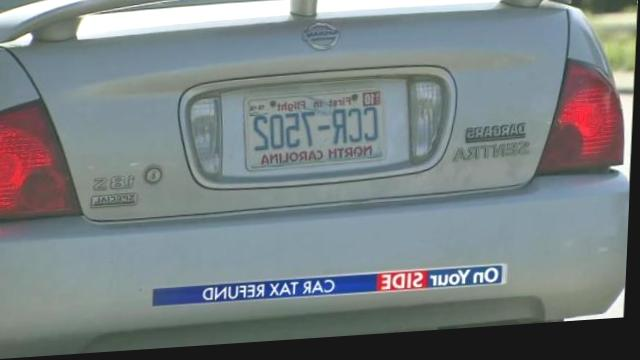License_Plate: (235, 77, 396, 178)
